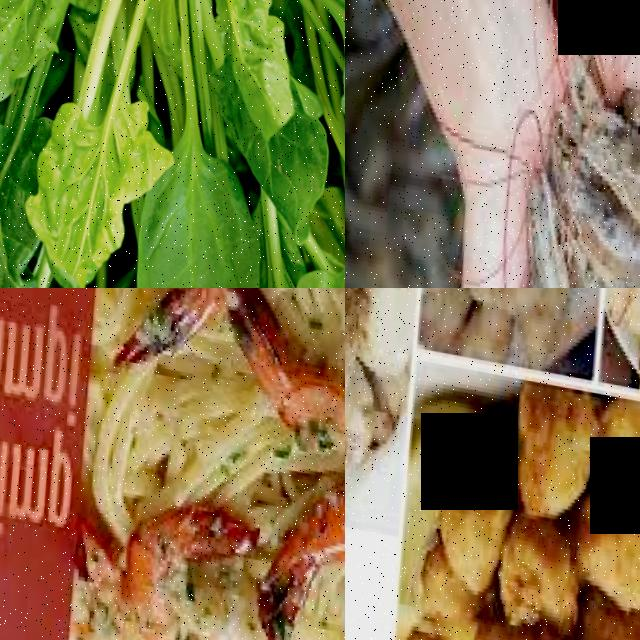shrimp: (551, 102, 640, 246), (560, 200, 640, 288)
spinach: (105, 490, 263, 640), (212, 288, 345, 460), (121, 138, 267, 288), (27, 93, 138, 280), (253, 470, 345, 640), (109, 288, 241, 348), (0, 0, 56, 103)
